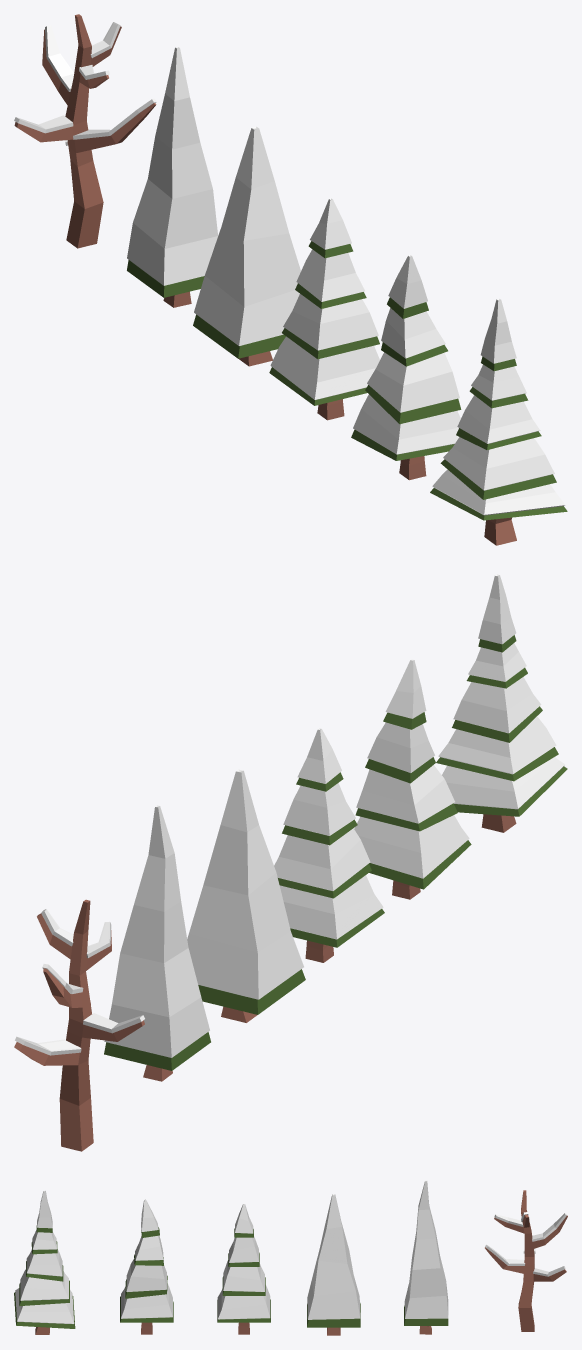
File: snowy-trees.glb
The picture shows the model from 3 angles, top to bottom: view 1: azimuth 30°, elevation 25°; view 2: azimuth 150°, elevation 25°; view 3: azimuth 270°, elevation 25°; orthographic projection. The views are drawn at different scales.
Visible parts, largest first — view 1: Tree 1, Tree 4, Tree 2, Tree 3, Tree 5, Tree 6; view 2: Tree 4, Tree 1, Tree 5, Tree 2, Tree 3, Tree 6; view 3: Tree 1, Tree 4, Tree 3, Tree 2, Tree 5, Tree 6.
Part boxes in pixels (bbox=[...]): Tree 1: bbox=[430, 298, 567, 545]; Tree 4: bbox=[193, 126, 300, 366]; Tree 2: bbox=[351, 255, 461, 480]; Tree 3: bbox=[269, 198, 379, 420]; Tree 5: bbox=[127, 47, 217, 307]; Tree 6: bbox=[14, 14, 156, 248]; Tree 4: bbox=[187, 769, 305, 1022]; Tree 1: bbox=[436, 574, 567, 832]; Tree 5: bbox=[104, 805, 210, 1081]; Tree 2: bbox=[354, 659, 471, 899]; Tree 3: bbox=[274, 728, 384, 962]; Tree 6: bbox=[14, 899, 144, 1151]; Tree 1: bbox=[14, 1190, 75, 1334]; Tree 4: bbox=[307, 1194, 360, 1335]; Tree 3: bbox=[217, 1203, 270, 1334]; Tree 2: bbox=[120, 1199, 173, 1334]; Tree 5: bbox=[404, 1180, 448, 1334]; Tree 6: bbox=[485, 1190, 567, 1331].
Bounding box in the file's own units: 3.67 × 7.48 × 24.83.
1 material, 1 textured.
